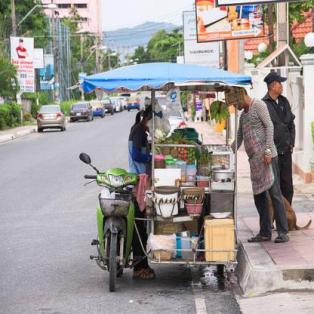Motocicleta: (75, 148, 142, 294)
